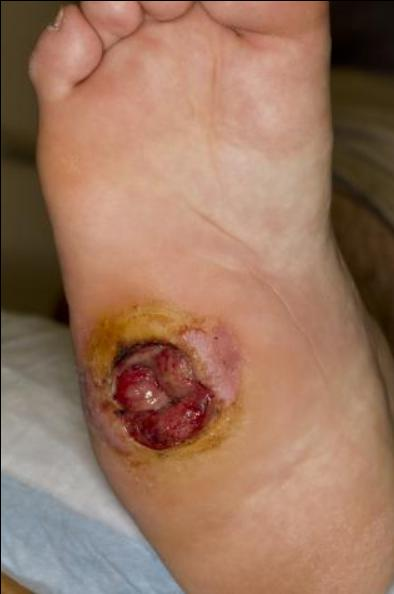Stage3: (77, 283, 260, 491)
